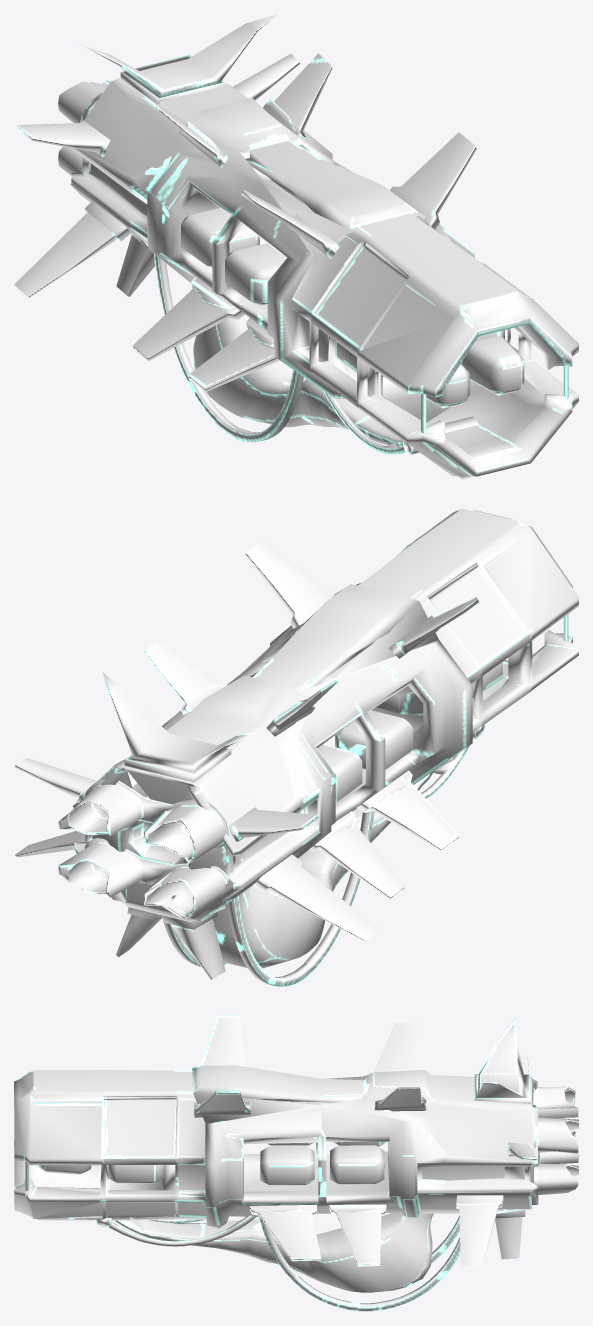
File: gallion_v3.glb
3 views of the same model, one above another, from view 1: azimuth 30°, elevation 25°; view 2: azimuth 150°, elevation 25°; view 3: azimuth 270°, elevation 25° (orthographic). The views are drawn at different scales.
Visible parts, largest first — view 1: gallion_v3; view 2: gallion_v3; view 3: gallion_v3.
Boxes of the visible parts, box(x1,y1,x2,y2) form: gallion_v3: box(14, 14, 578, 479); gallion_v3: box(14, 508, 578, 986); gallion_v3: box(14, 1015, 578, 1311).
Bounding box in the file's own units: 1.52 × 1.36 × 2.82.
1 material, 1 textured.
